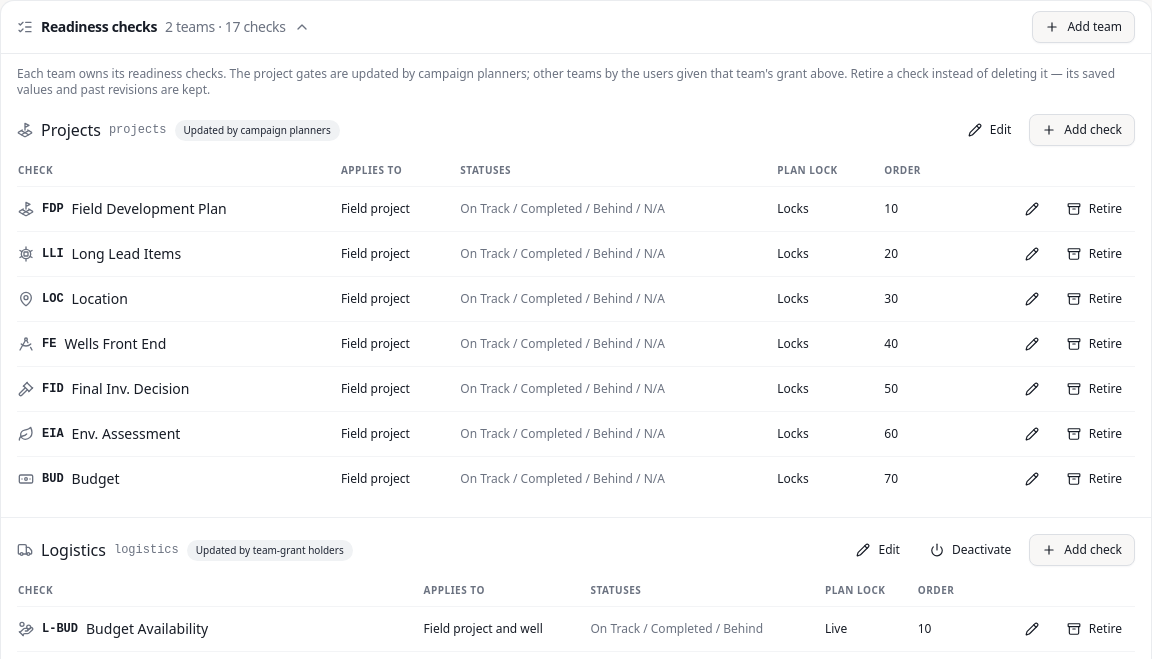
Test: Admin — categories and 'starts unticked' › a Project gate's edit form has no category
Click the button named "Edit FDP" at (1032, 209), box [1013, 193, 1051, 225]
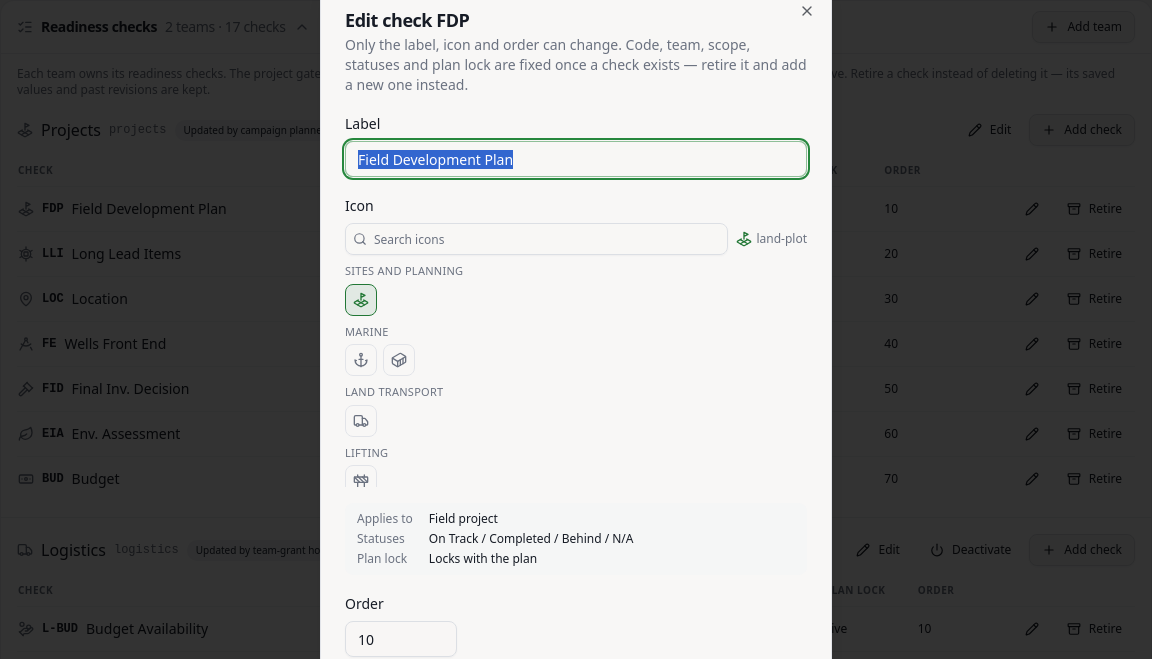
Expected: the dialog shows "Only the label, icon and order can change.", [345, 35, 806, 94]
